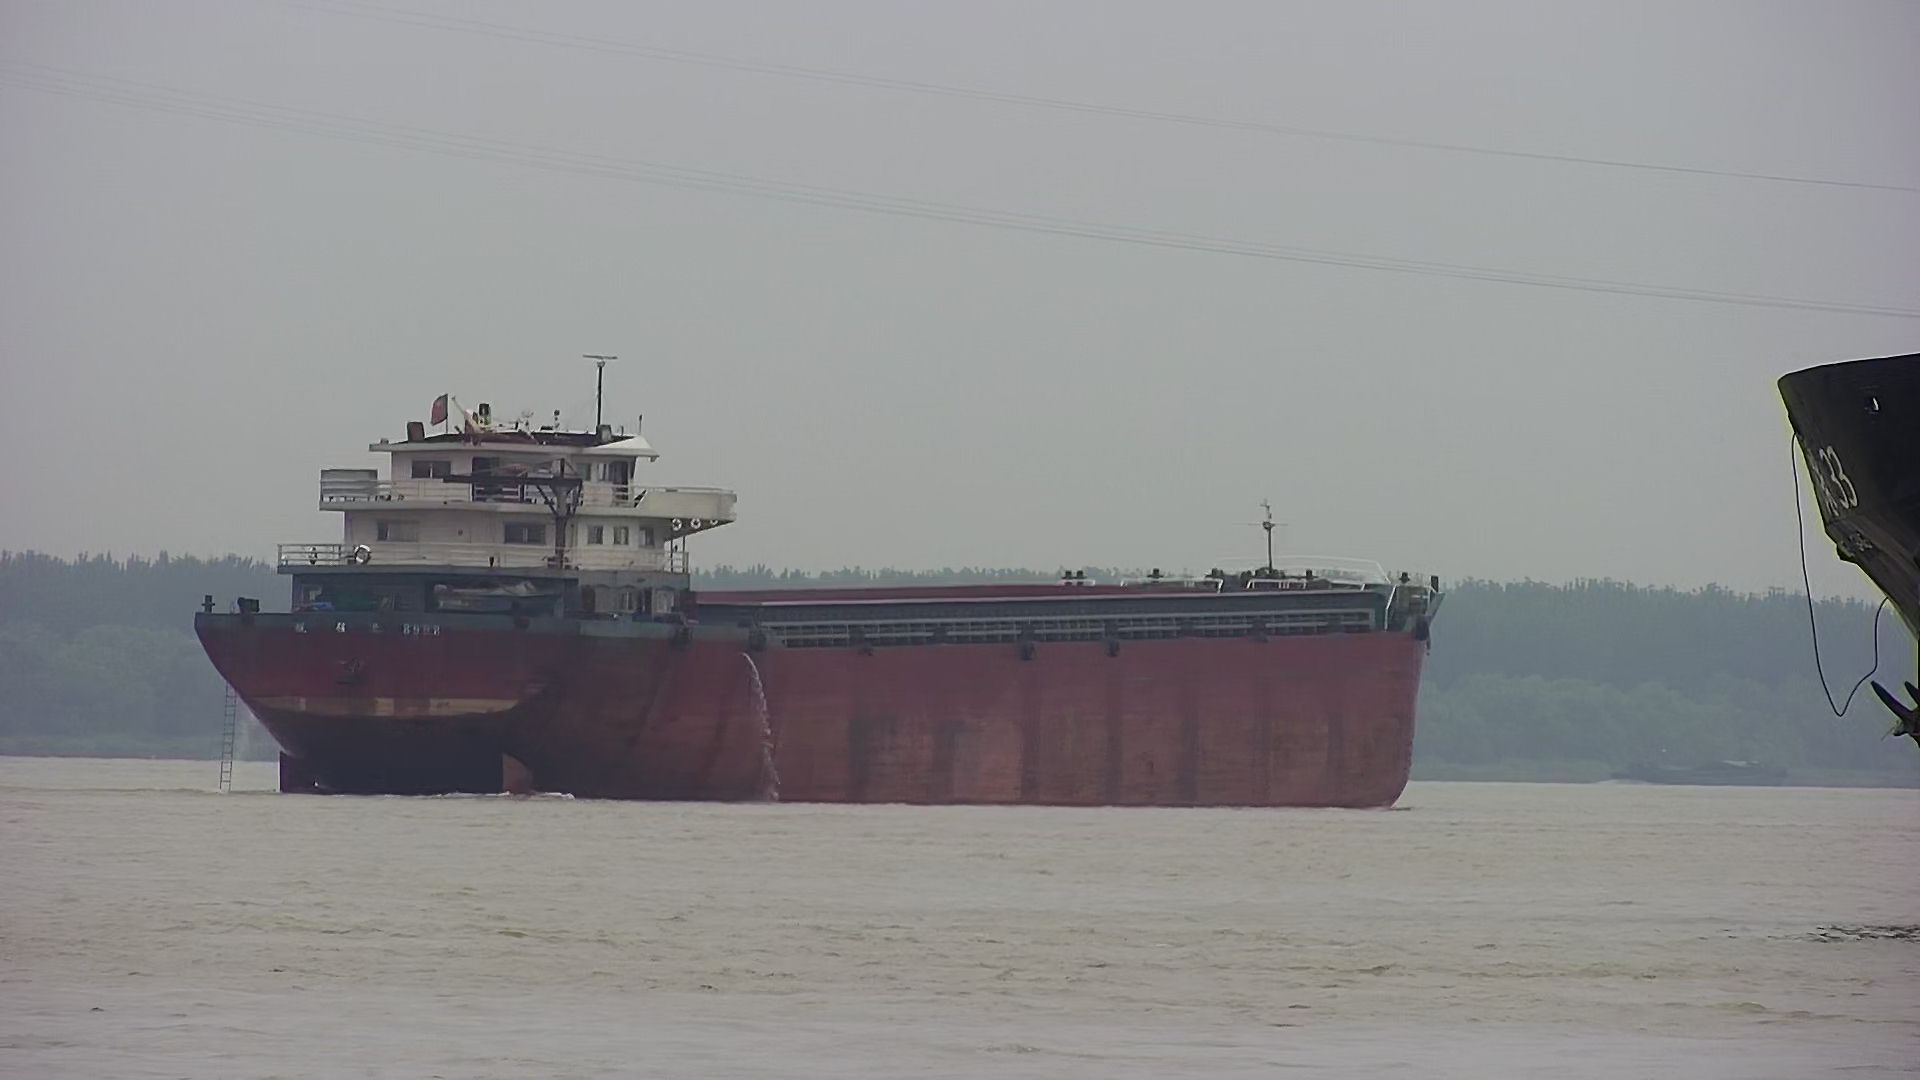ship: (191, 393, 1462, 812), (1776, 349, 1920, 760)
